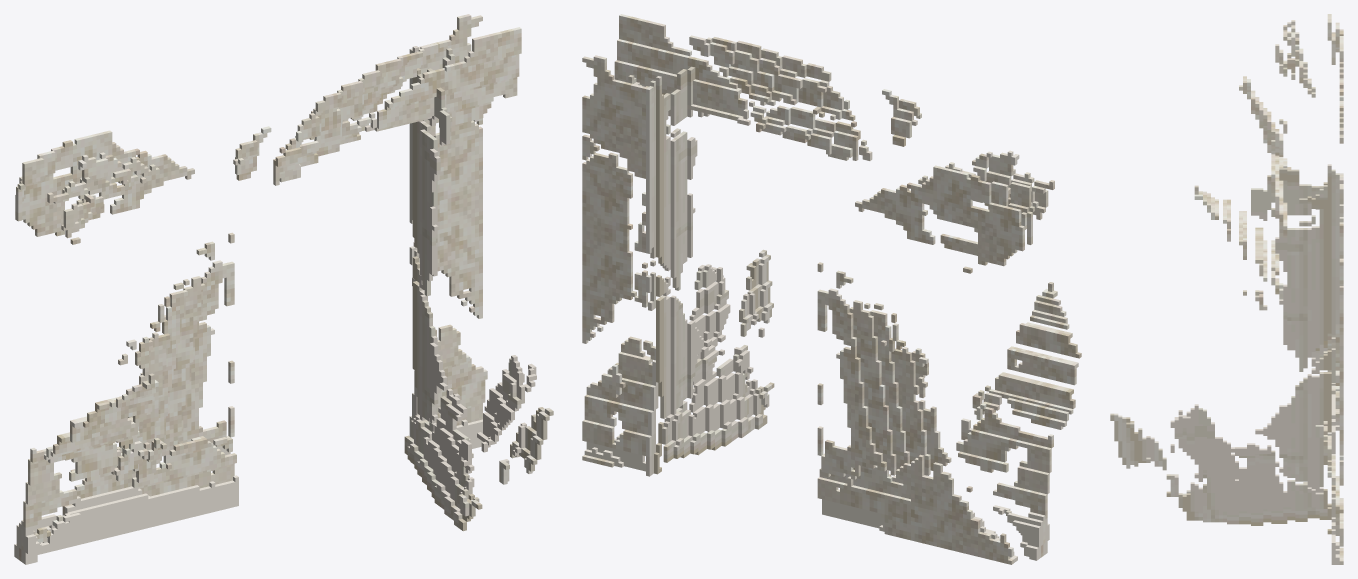
Rendered from door4.vox.obj.
The picture shows the model from 3 angles, left to right: view 1: azimuth 30°, elevation 25°; view 2: azimuth 150°, elevation 25°; view 3: azimuth 270°, elevation 25°; orthographic projection. The views are drawn at different scales.
Size of the model in its own units: 12 by 10.7 by 5.8.
1 material, 1 textured.
